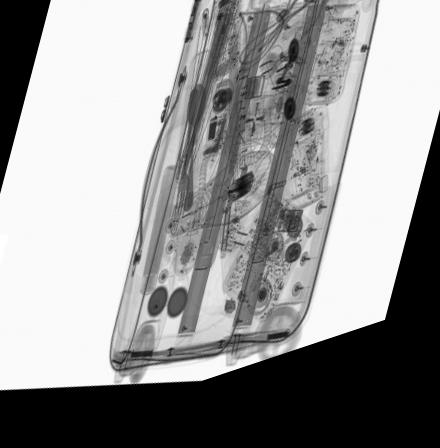Lighter: (198, 19, 209, 62)
